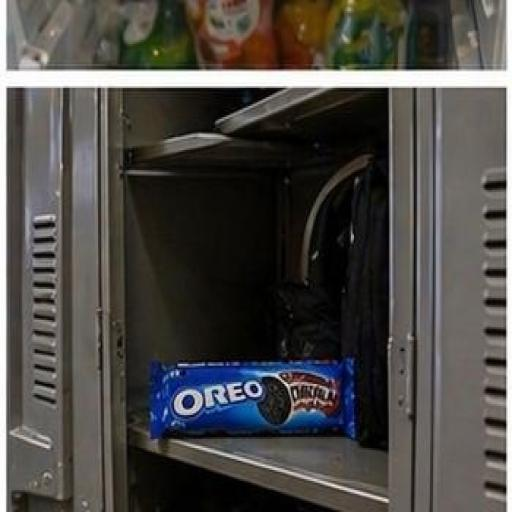oreo: (112, 298, 415, 472)
